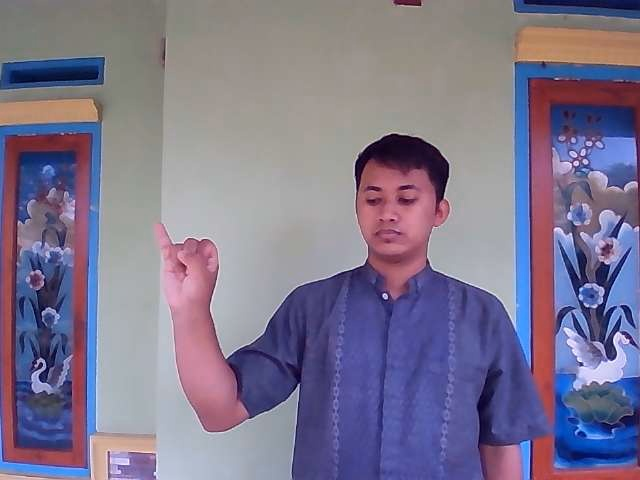I: (145, 216, 223, 322)
